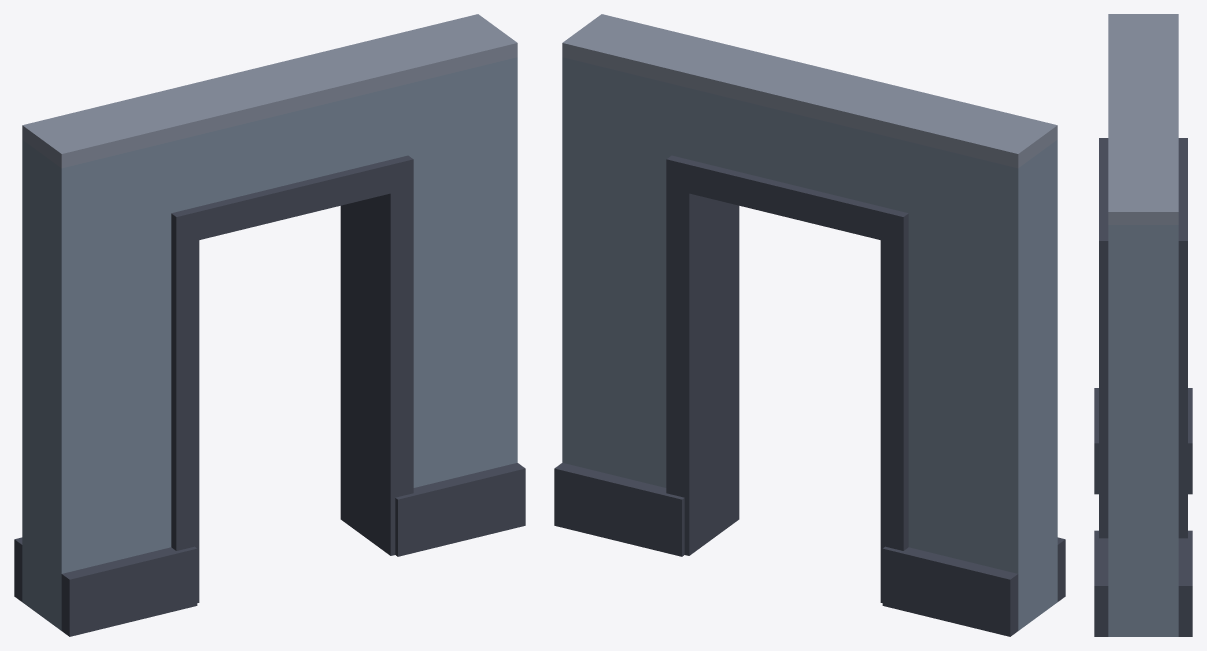
Rendered from wall-door.glb.
3 renders of one model, left to right at view 1: azimuth 30°, elevation 25°; view 2: azimuth 150°, elevation 25°; view 3: azimuth 270°, elevation 25°, orthographic. The views are drawn at different scales.
Parts seen in each view (by area): view 1: wall-door; view 2: wall-door; view 3: wall-door.
Part boxes in pixels (bbox=[...]): wall-door: bbox=[14, 14, 525, 636]; wall-door: bbox=[554, 14, 1065, 636]; wall-door: bbox=[1094, 14, 1192, 636].
Bounding box in the file's own units: 1 × 1 × 0.21.
1 material, 1 textured.
